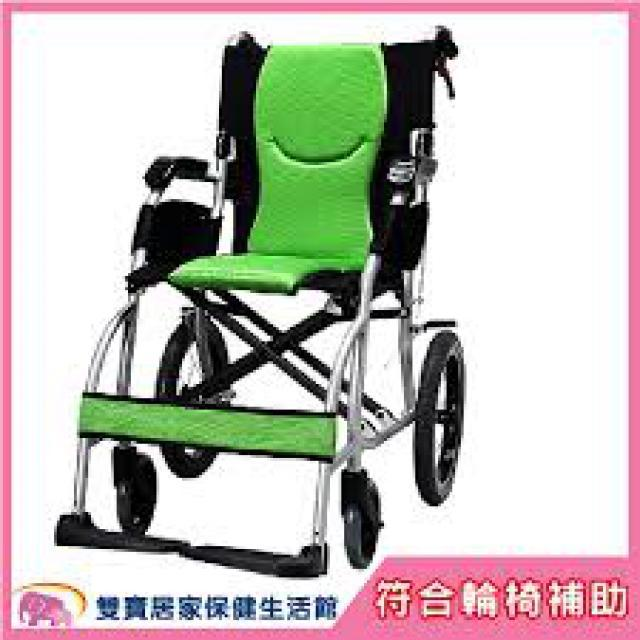wheelchair: (48, 20, 481, 586)
